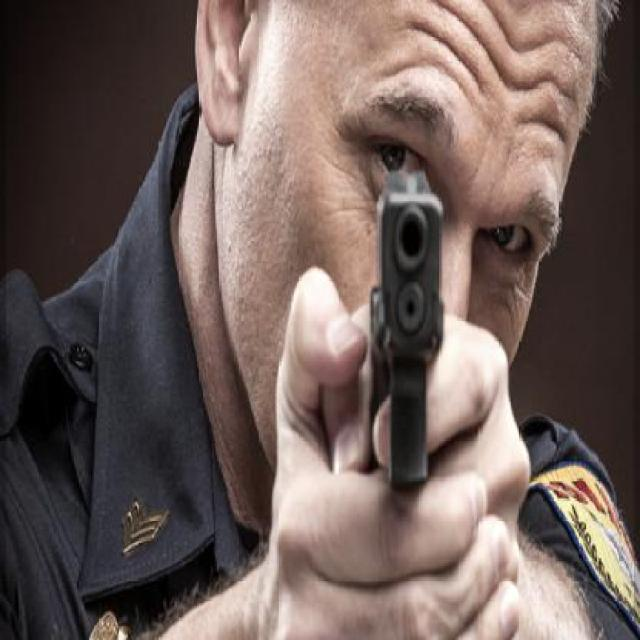pistol: (367, 174, 449, 492)
